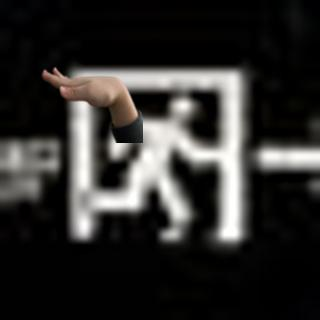Wait: (32, 59, 135, 115)
